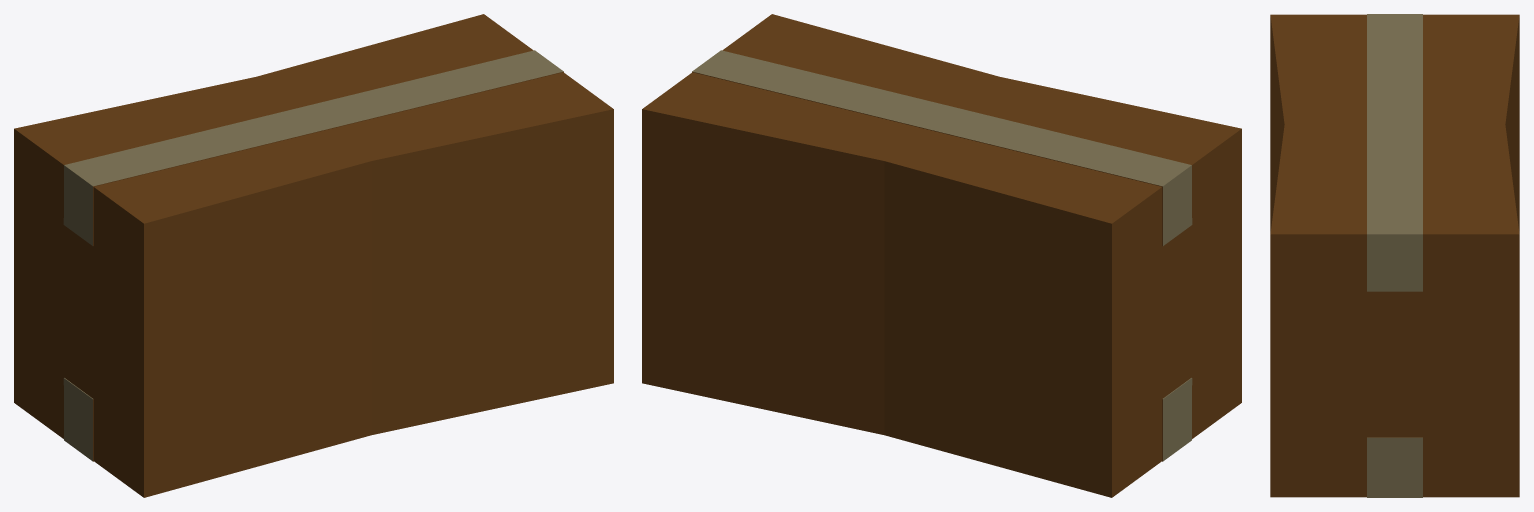
The model's file is Caixa 2.fbx.
3 views of the same model, side by side, from view 1: azimuth 30°, elevation 25°; view 2: azimuth 150°, elevation 25°; view 3: azimuth 270°, elevation 25° (orthographic). The views are drawn at different scales.
Visible parts, largest first — view 1: Cube.008; view 2: Cube.008; view 3: Cube.008.
Part boxes in pixels (<box>): Cube.008: <box>14,14,613,497</box>; Cube.008: <box>642,14,1241,497</box>; Cube.008: <box>1270,14,1519,497</box>.
Bounding box in the file's own units: 8.6 × 4.8 × 4.11.
